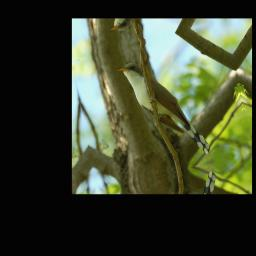Cuckoo: (117, 46, 210, 173)
